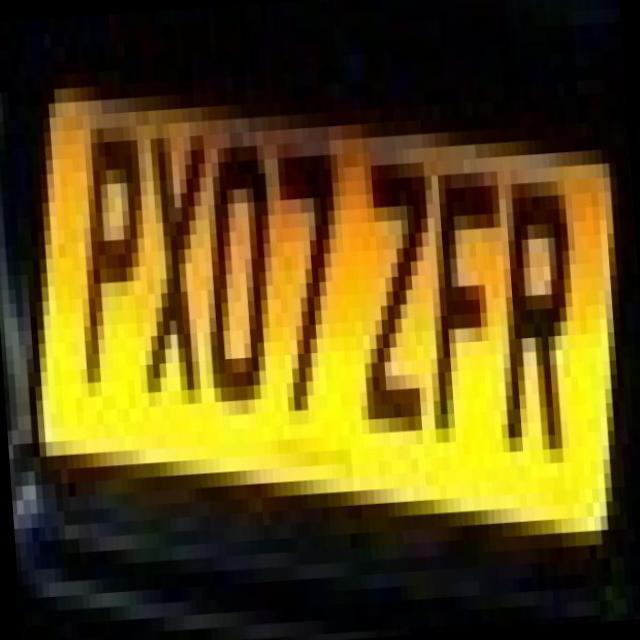LicensePlate: (9, 42, 634, 588)
